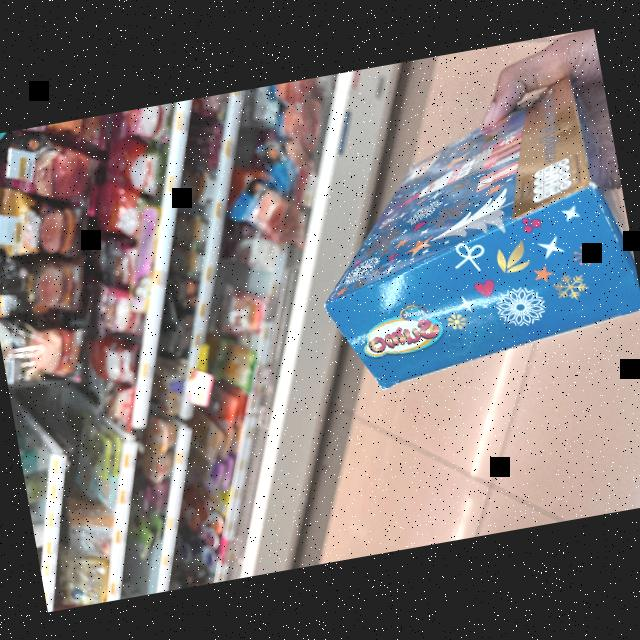cardboard_box: (281, 65, 640, 417)
